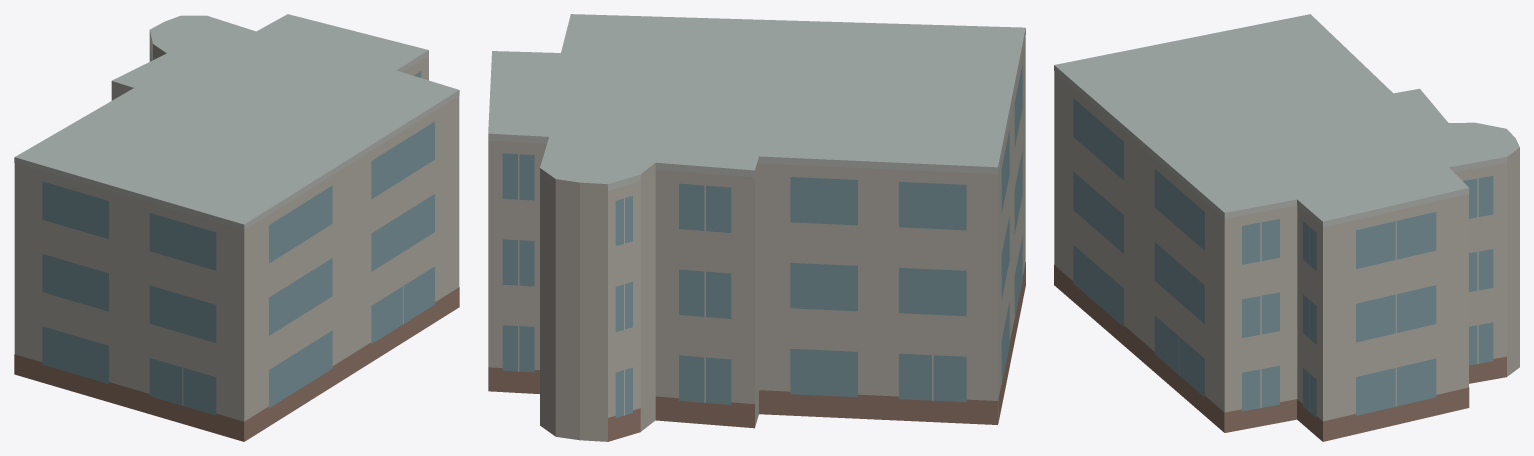
Rendered from survey-upis-32629116.glb.
3 renders of one model, left to right at view 1: azimuth 30°, elevation 25°; view 2: azimuth 150°, elevation 25°; view 3: azimuth 270°, elevation 25°, orthographic. The views are drawn at different scales.
Visible parts, largest first — view 1: survey-upis-32629116.tmp; view 2: survey-upis-32629116.tmp; view 3: survey-upis-32629116.tmp.
Part boxes in pixels (x1=…): survey-upis-32629116.tmp: x1=14, y1=14, x2=459, y2=441; survey-upis-32629116.tmp: x1=488, y1=14, x2=1025, y2=441; survey-upis-32629116.tmp: x1=1054, y1=14, x2=1519, y2=441.
Bounding box in the file's own units: 18.54 × 9.15 × 17.56.
